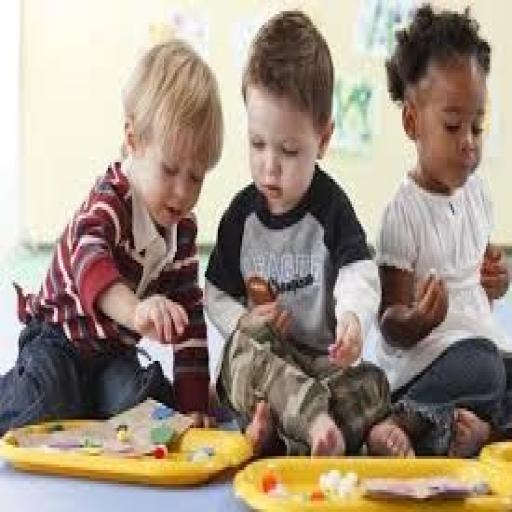baby: (205, 12, 415, 456), (0, 40, 223, 436), (375, 6, 511, 456)
